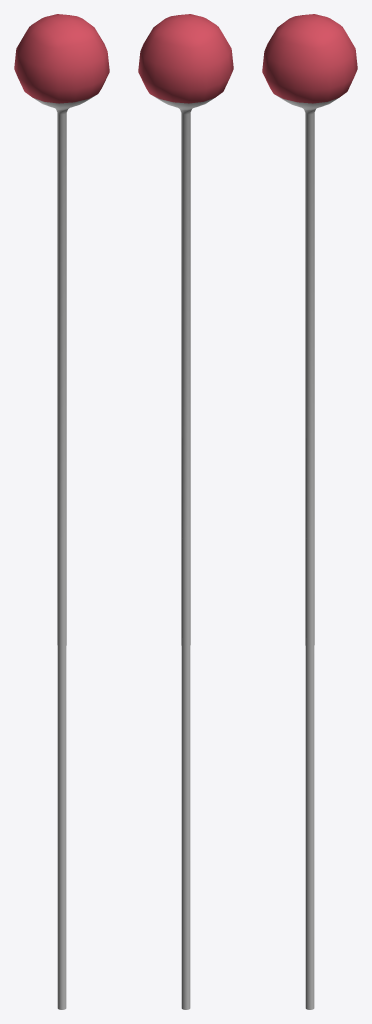
Rendered from RootsUV3_4.fbx.
3 views of the same model, side by side, from view 1: azimuth 30°, elevation 25°; view 2: azimuth 150°, elevation 25°; view 3: azimuth 330°, elevation 25° (orthographic).
Parts seen in each view (by area): view 1: RootsUV3_4_LOD0; view 2: RootsUV3_4_LOD0; view 3: RootsUV3_4_LOD0.
Part boxes in pixels (x1,y1,x2,y2): RootsUV3_4_LOD0: (14, 14, 109, 1009); RootsUV3_4_LOD0: (138, 14, 233, 1009); RootsUV3_4_LOD0: (262, 14, 357, 1009).
Size of what is drawn, in the model's own units: 205 by 2430 by 205.
